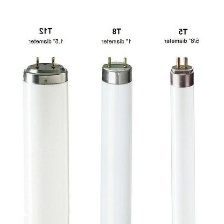light_bulb: (18, 50, 77, 224), (91, 50, 140, 224), (168, 52, 197, 224)
